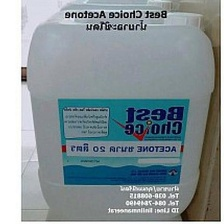cleaning_solution: (24, 5, 217, 221)
